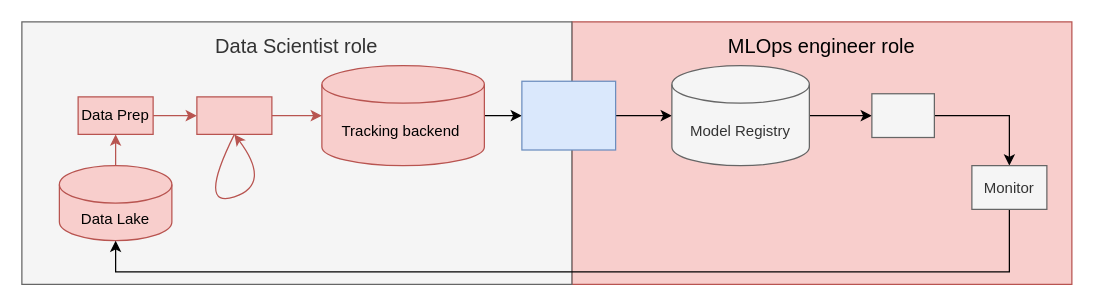
Image size: 1094x306. Some labels were removed from this diagram. Here are the shapes that lost their labels. From the top down, the centre of each, then its label:
At point (234, 115): "Train".
At point (568, 115): "Review and select".
At point (902, 115): "Deploy".
